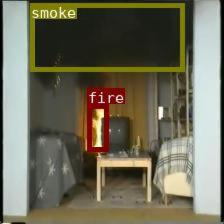fire: (86, 103, 108, 151)
smoke: (29, 3, 184, 70)
